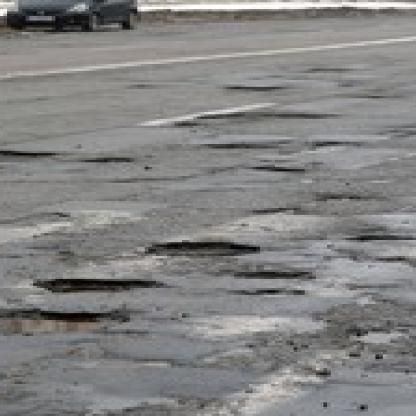pothole: (0, 309, 133, 334), (30, 276, 164, 295), (145, 240, 264, 258), (231, 270, 313, 281), (249, 162, 305, 176), (208, 139, 271, 151), (74, 153, 134, 165), (234, 288, 312, 297), (0, 149, 52, 162), (223, 82, 279, 94), (353, 233, 416, 242), (201, 110, 245, 121), (320, 192, 353, 206), (253, 206, 297, 215), (375, 254, 409, 263), (171, 121, 193, 126)
